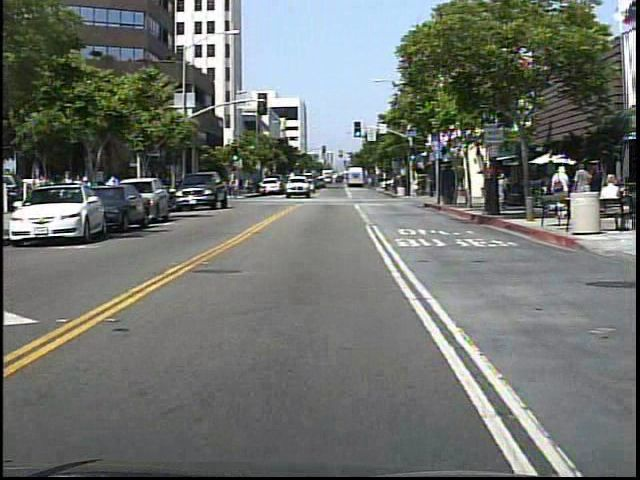person: (27, 163, 49, 222), (495, 170, 507, 214), (230, 174, 242, 200)
